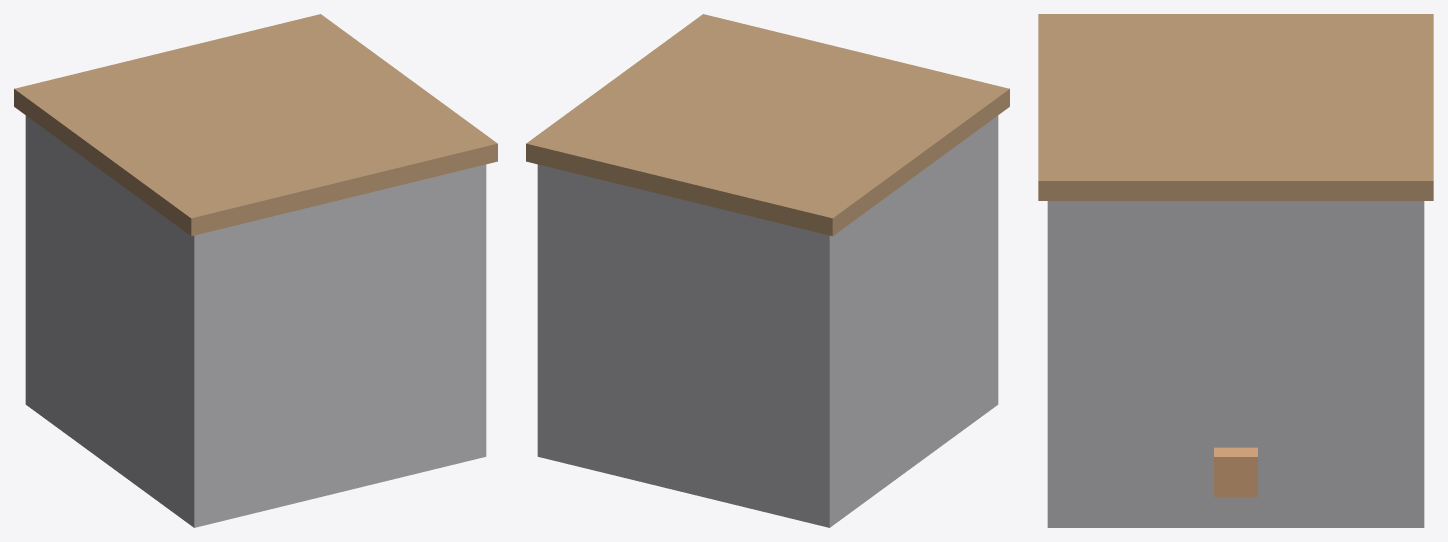
File: Prop_Water_AMF_Cistern_V8.glb
3 renders of one model, left to right at view 1: azimuth 30°, elevation 25°; view 2: azimuth 150°, elevation 25°; view 3: azimuth 270°, elevation 25°, orthographic. The views are drawn at different scales.
Parts seen in each view (by area): view 1: Prop_Water_AMF_Cistern_V8; view 2: Prop_Water_AMF_Cistern_V8; view 3: Prop_Water_AMF_Cistern_V8.
Boxes of the visible parts, box(x1,y1,x2,y2) form: Prop_Water_AMF_Cistern_V8: box(14, 14, 497, 527); Prop_Water_AMF_Cistern_V8: box(526, 14, 1009, 527); Prop_Water_AMF_Cistern_V8: box(1038, 14, 1433, 527).
Size of the model in its own units: 1.84 by 1.75 by 1.79.
